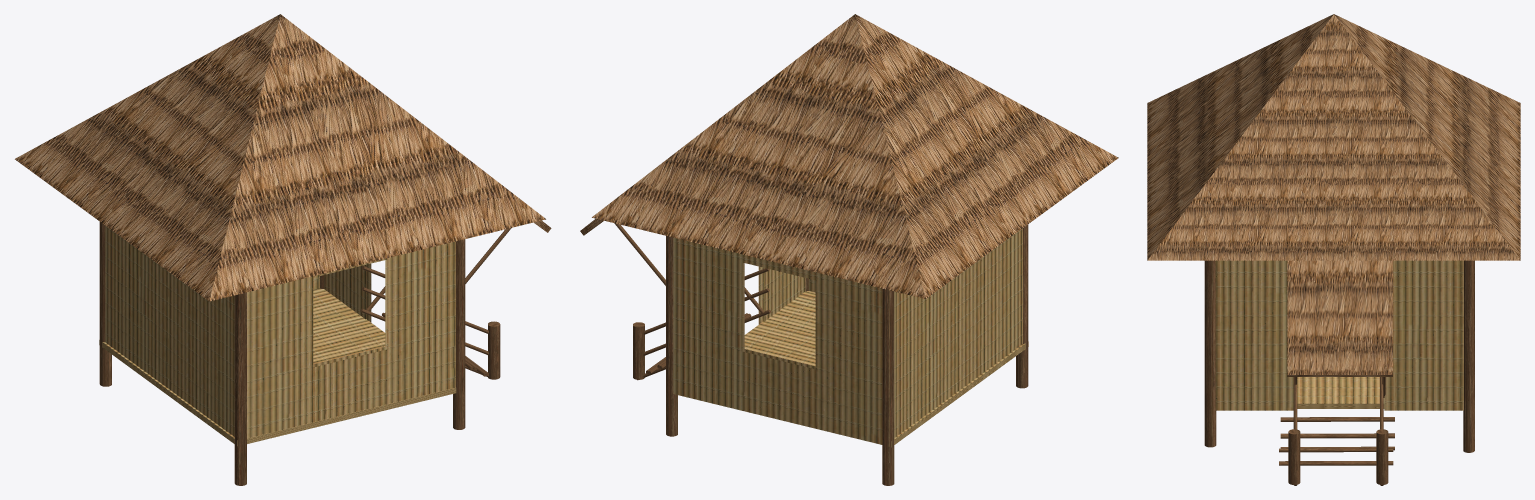
Rendered from salud.fbx.
3 views of the same model, side by side, from view 1: azimuth 30°, elevation 25°; view 2: azimuth 150°, elevation 25°; view 3: azimuth 270°, elevation 25° (orthographic). The views are drawn at different scales.
Visible parts, largest first — view 1: Cube, Cube.005, Cube.003, Cube.007, Cylinder.001, Cylinder, Cube.002, Cylinder.003, Cylinder.007; view 2: Cube, Cube.001, Cube.003, Cube.007, Cylinder.003, Cylinder.002, Cube.002, Cylinder.001, Cylinder.008; view 3: Cube, Cube.002, Cube.006, Cube.007, Cylinder, Cylinder.002, Cylinder.007, Cylinder.008, Cylinder.021, Cylinder.019, Cylinder.017.
Part boxes in pixels (x1=…): Cube: x1=15, y1=14, x2=545, y2=301; Cube.005: x1=247, y1=241, x2=455, y2=438; Cube.003: x1=105, y1=226, x2=234, y2=436; Cube.007: x1=99, y1=288, x2=456, y2=446; Cylinder.001: x1=234, y1=292, x2=246, y2=485; Cylinder: x1=453, y1=239, x2=465, y2=429; Cube.002: x1=324, y1=263, x2=371, y2=322; Cylinder.003: x1=99, y1=222, x2=111, y2=386; Cylinder.007: x1=488, y1=321, x2=500, y2=379; Cube: x1=592, y1=14, x2=1118, y2=298; Cube.001: x1=673, y1=237, x2=889, y2=446; Cube.003: x1=894, y1=228, x2=1022, y2=437; Cube.007: x1=744, y1=291, x2=1028, y2=447; Cylinder.003: x1=882, y1=288, x2=894, y2=485; Cylinder.002: x1=666, y1=236, x2=677, y2=436; Cube.002: x1=758, y1=266, x2=805, y2=324; Cylinder.001: x1=1016, y1=224, x2=1028, y2=388; Cylinder.008: x1=633, y1=322, x2=644, y2=379; Cube: x1=1147, y1=14, x2=1520, y2=260; Cube.002: x1=1215, y1=260, x2=1463, y2=410; Cube.006: x1=1287, y1=260, x2=1392, y2=376; Cube.007: x1=1297, y1=377, x2=1384, y2=408; Cylinder: x1=1204, y1=260, x2=1216, y2=447; Cylinder.002: x1=1463, y1=260, x2=1474, y2=452; Cylinder.007: x1=1288, y1=429, x2=1300, y2=484; Cylinder.008: x1=1376, y1=429, x2=1388, y2=484; Cylinder.021: x1=1280, y1=418, x2=1394, y2=421; Cylinder.019: x1=1280, y1=434, x2=1394, y2=438; Cylinder.017: x1=1279, y1=448, x2=1393, y2=452.
Size of the model in its own units: 4.59 by 3.73 by 4.23.
